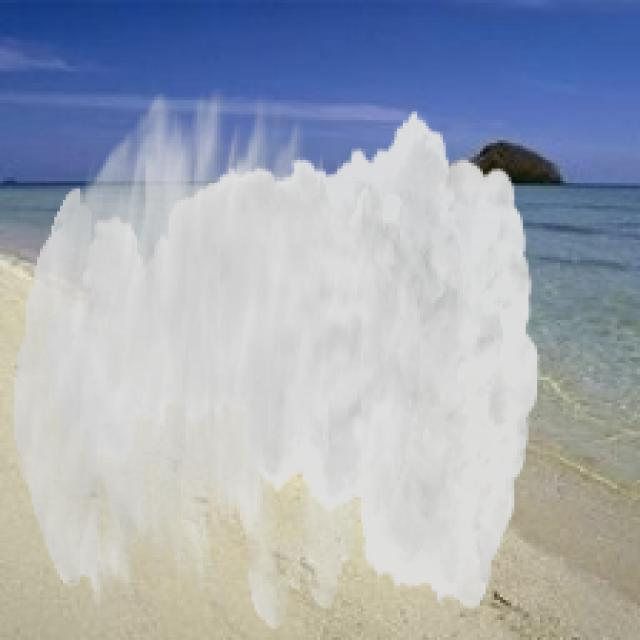smoke: (14, 89, 540, 628)
